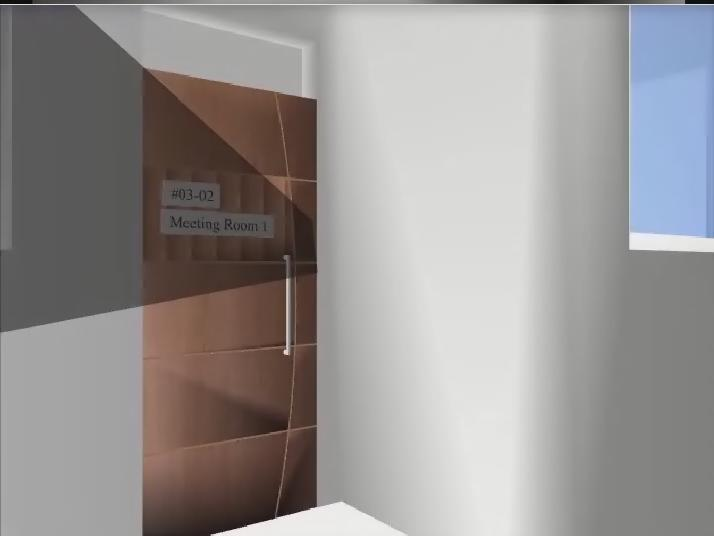door: (142, 68, 317, 536)
